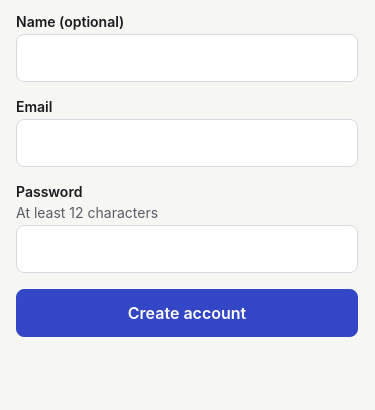
Test case: RegisterScreen › explains a duplicate account and keeps the input
Type "ada@example.com" into the field named "Email" at (187, 143), box [16, 119, 358, 167]
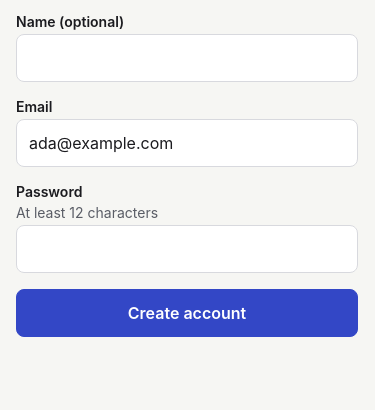
Type "correct horse battery" into the password field named "Password" at (187, 249), box [16, 225, 358, 273]
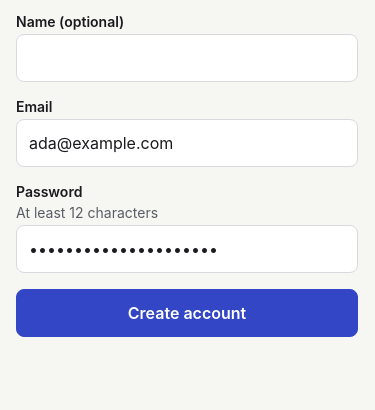
Click the button "Create account" at (187, 313), box [16, 289, 358, 337]
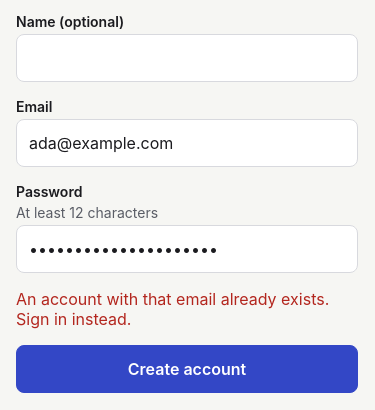
Expected: the text "An account with that email already exists. Sign in instead." is shown, [16, 289, 358, 329]
